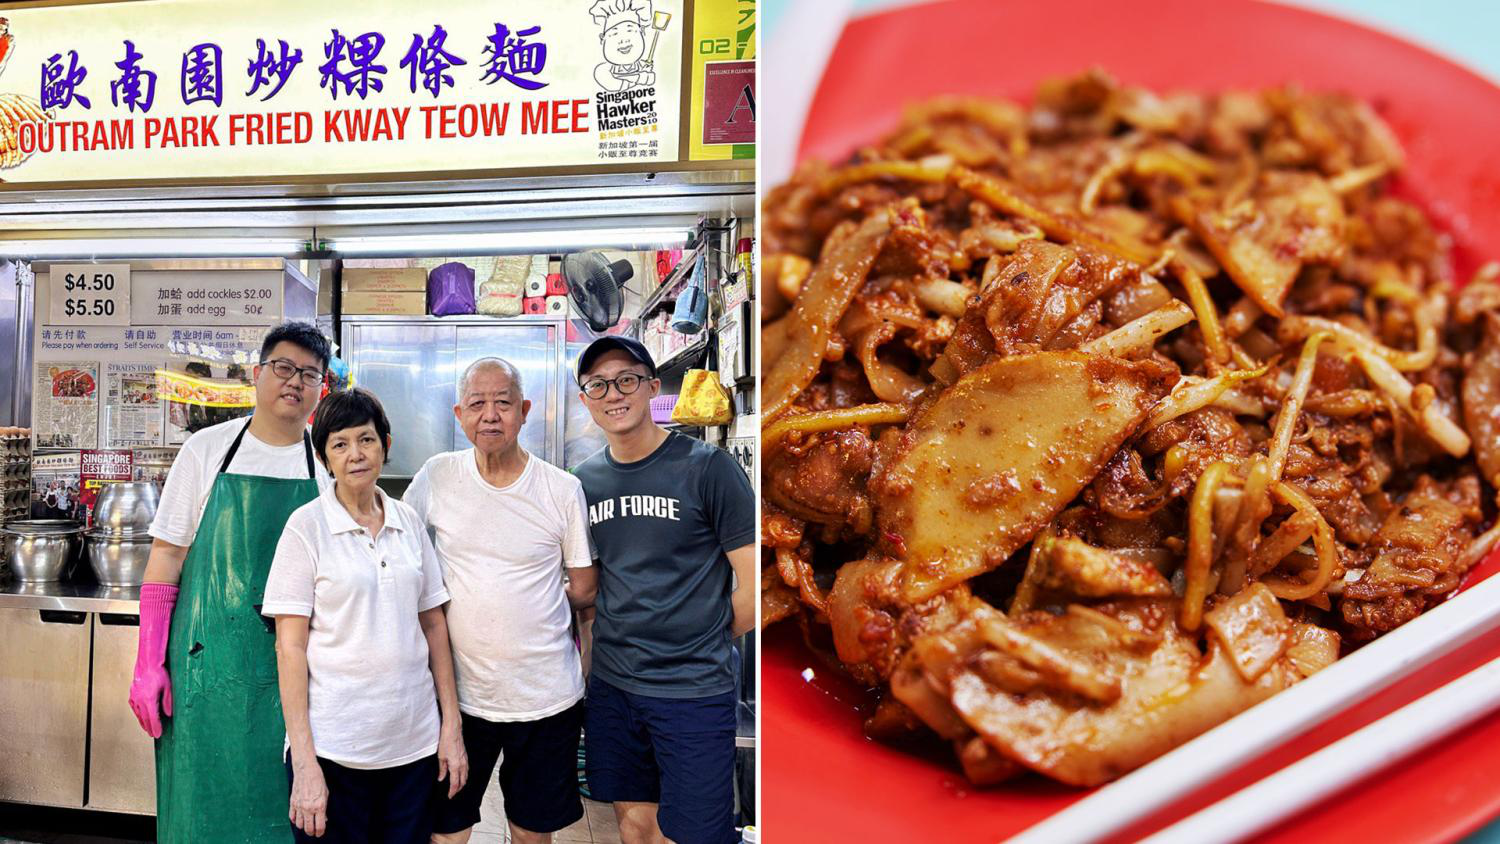Char Kway Teow: (776, 88, 1491, 734)
